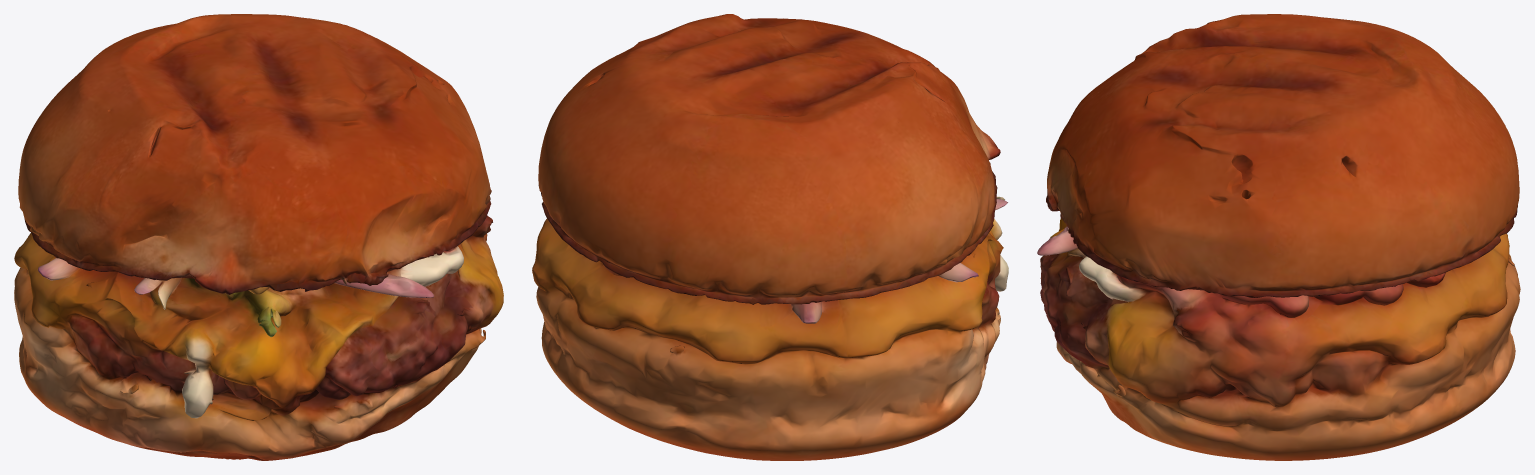
File: sencilla.glb
3 renders of one model, left to right at view 1: azimuth 30°, elevation 25°; view 2: azimuth 150°, elevation 25°; view 3: azimuth 270°, elevation 25°, orthographic.
Visible parts, largest first — view 1: tripo_node_77fcb346-2804-41ba-86b6-b6e3eb4ab882; view 2: tripo_node_77fcb346-2804-41ba-86b6-b6e3eb4ab882; view 3: tripo_node_77fcb346-2804-41ba-86b6-b6e3eb4ab882.
Boxes of the visible parts, x1,y1,x2,y2 form: tripo_node_77fcb346-2804-41ba-86b6-b6e3eb4ab882: (14,14,503,460); tripo_node_77fcb346-2804-41ba-86b6-b6e3eb4ab882: (532,14,1008,460); tripo_node_77fcb346-2804-41ba-86b6-b6e3eb4ab882: (1037,14,1520,460).
Bounding box in the file's own units: 0.9797 × 0.7198 × 0.9563.
Materials: 1 (1 with a texture image).
